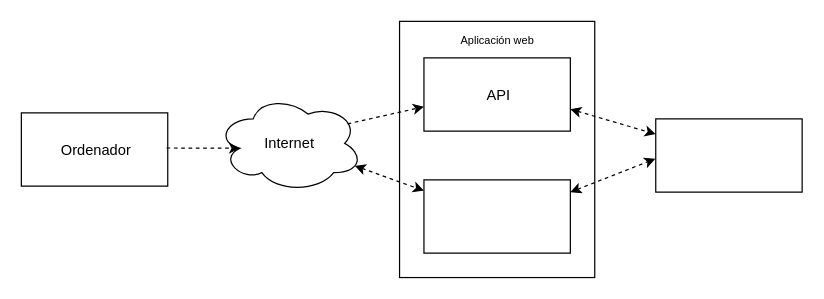
Image size: 824x299. Some labels were removed from this diagram. Here are the shapes that lost their labels. From the top down, the box of each, then its label:
(655, 118, 802, 192): Base de datos
(423, 179, 570, 253): Vista
